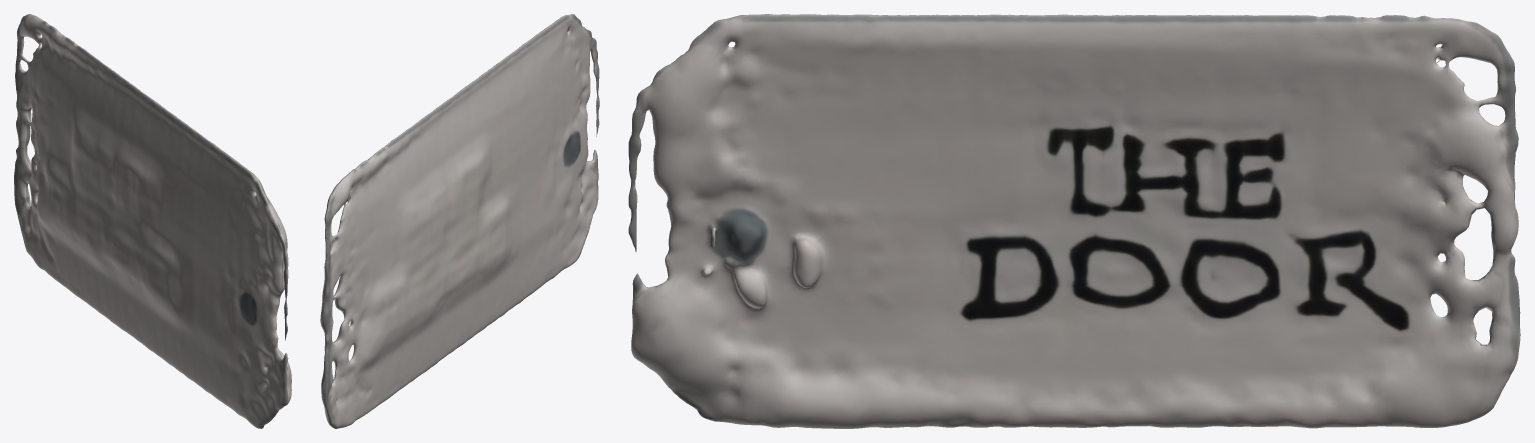
The model's file is b7a1b75ac9cf_tag_with_text__the_.fbx.
3 renders of one model, left to right at view 1: azimuth 30°, elevation 25°; view 2: azimuth 150°, elevation 25°; view 3: azimuth 270°, elevation 25°, orthographic. The views are drawn at different scales.
Visible parts, largest first — view 1: high_poly; view 2: high_poly; view 3: high_poly.
Boxes of the visible parts, x1=… form: high_poly: x1=14, y1=14, x2=291, y2=428; high_poly: x1=320, y1=14, x2=599, y2=428; high_poly: x1=628, y1=14, x2=1520, y2=428.
Size of the model in its own units: 5.8 by 51.08 by 100.
